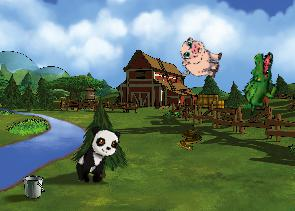crocodile: (237, 50, 283, 115)
panda: (71, 122, 123, 189)
pig: (175, 35, 225, 82)
